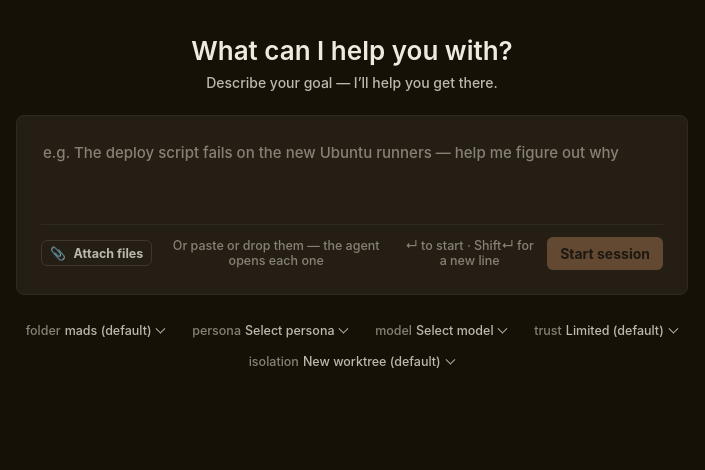
Launchpad folder + defaults › warns about a folder that isn't there, and won't save it as a default
Click the button "folder mads (default)" at (96, 330), box [17,319,175,342]
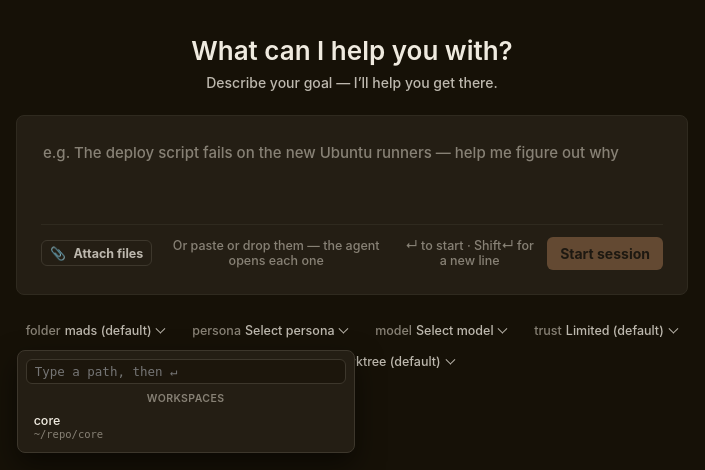
Type "/nope" into the field named "Folder path" at (186, 371), box [26,359,346,384]
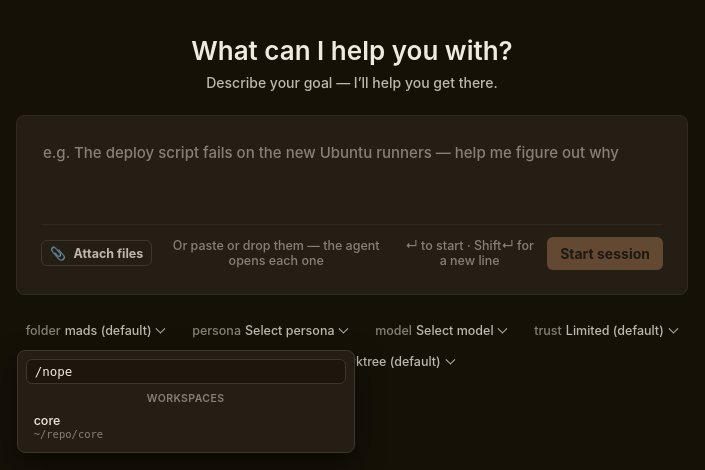
Press Enter in the field named "Folder path", box [26,359,346,384]
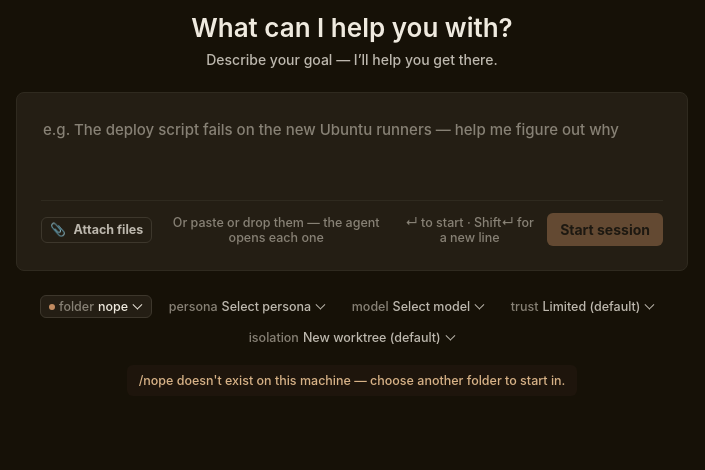
Now the text "/nope doesn't exist on this machine — choose another folder to start in." is shown, box [127,365,577,396]
